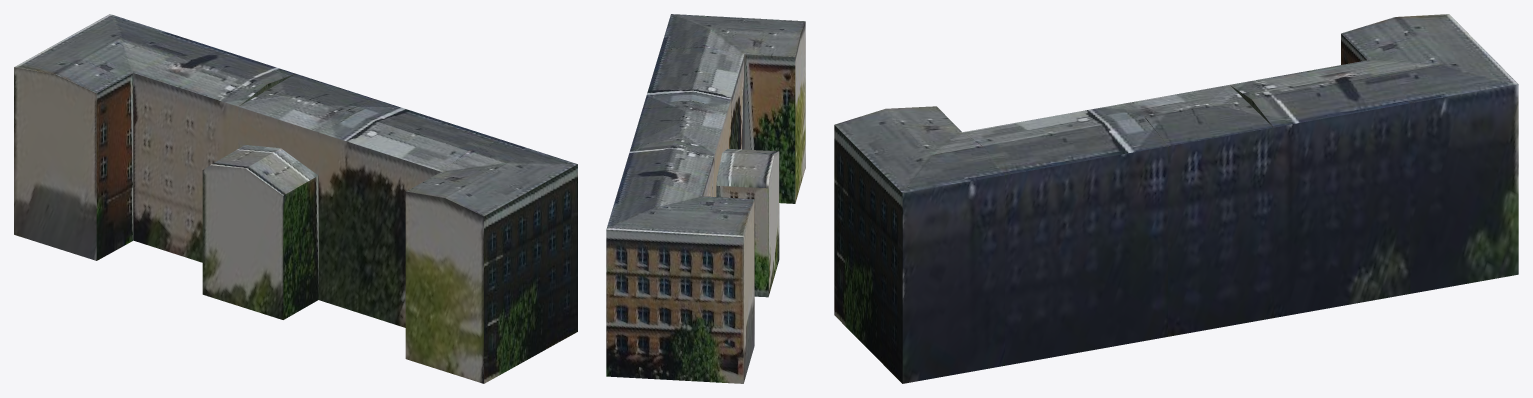
3 renders of one model, left to right at view 1: azimuth 30°, elevation 25°; view 2: azimuth 150°, elevation 25°; view 3: azimuth 270°, elevation 25°, orthographic. The views are drawn at different scales.
Size of the model in its own units: 43.48 by 70.07 by 22.29.
Materials: 2 (1 with a texture image).
